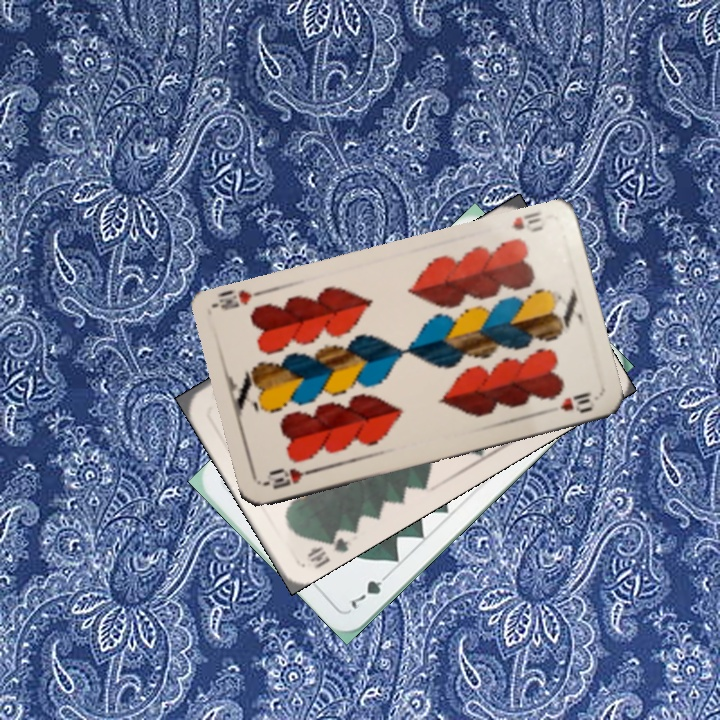G10: (302, 525, 353, 571)
G7: (346, 567, 394, 612)
H10: (261, 464, 319, 492), (507, 208, 546, 235)
